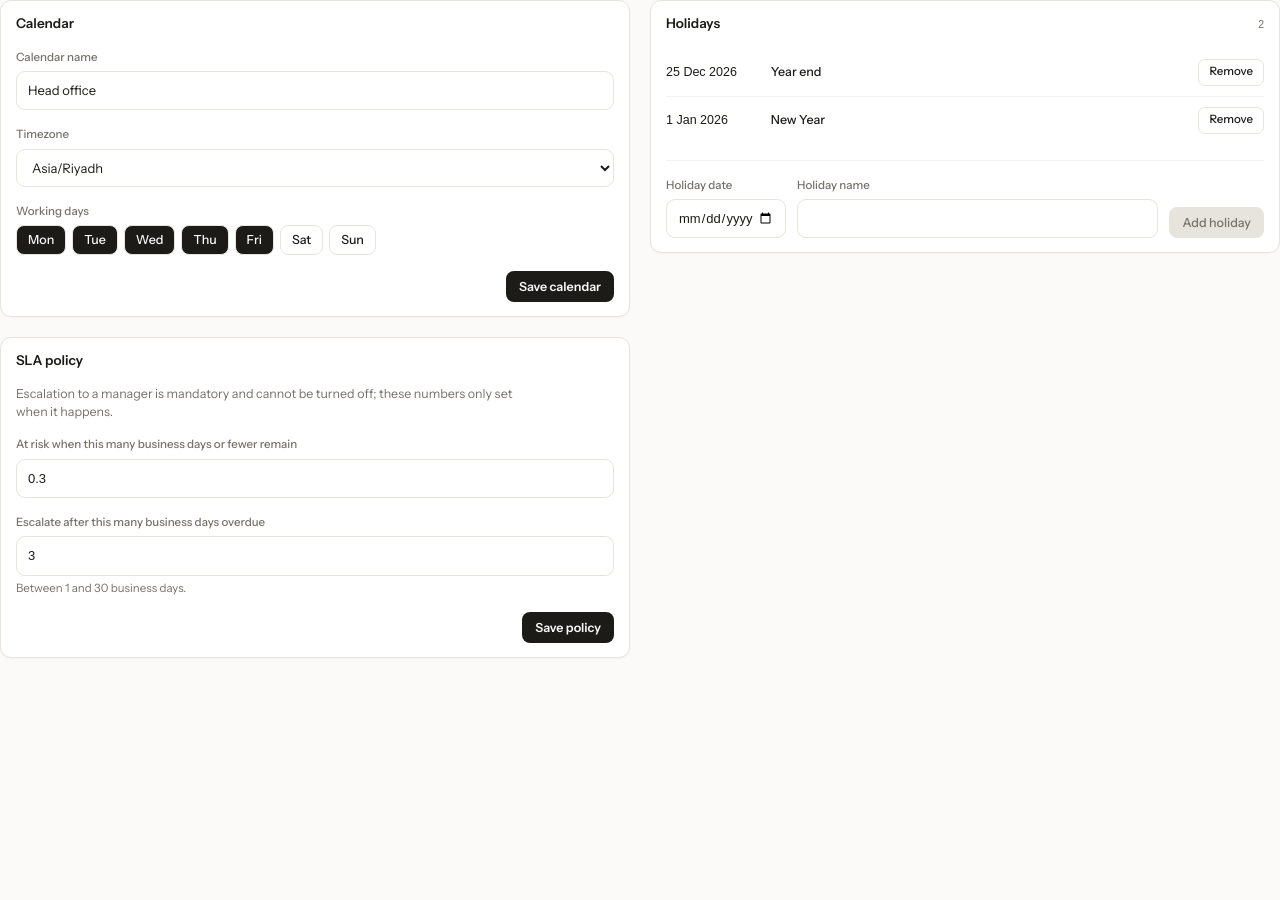
business calendar page › keeps Add holiday disabled until date and name are valid
Expected: the button "Add holiday" is disabled, [1169,207,1264,238]
Type "1999-05-01" into the date field labelled "Holiday date" at (726,219), box [666,199,786,238]
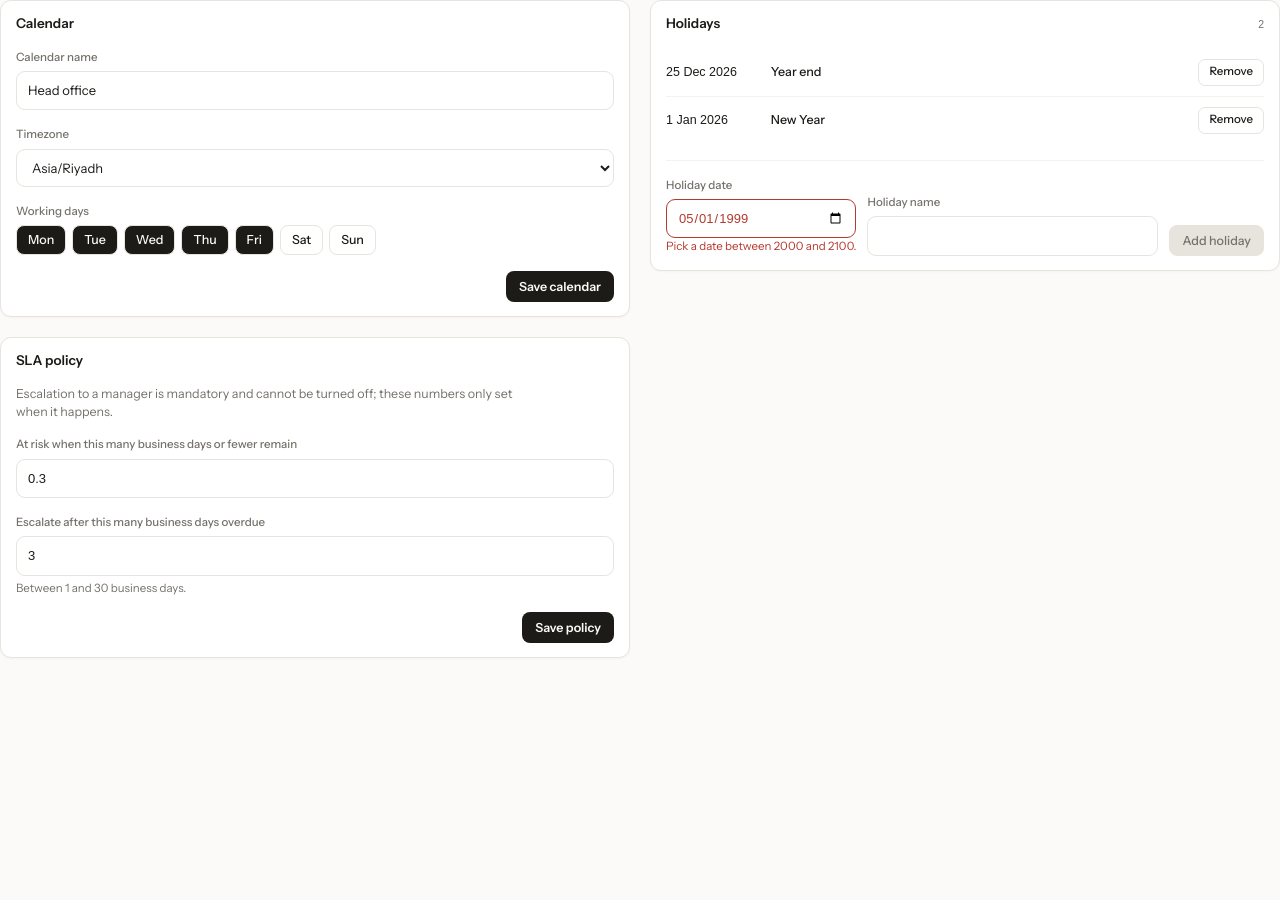
Type "X" into the field labelled "Holiday name" at (1013,236), box [868,216,1158,256]
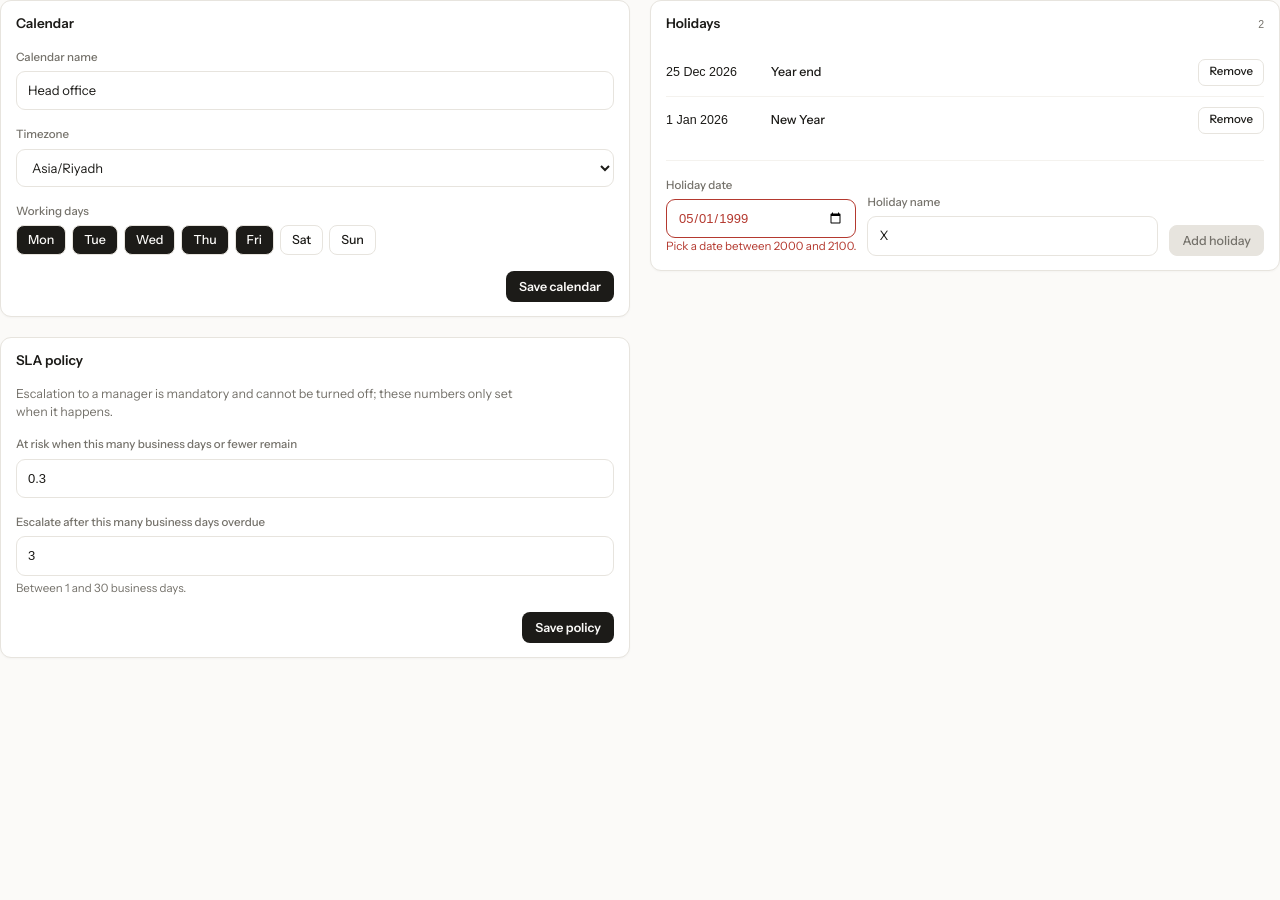
Expected: the button "Add holiday" is disabled, [1169,224,1264,256]
Type "2026-05-01" into the date field labelled "Holiday date" at (761,219), box [666,199,856,238]
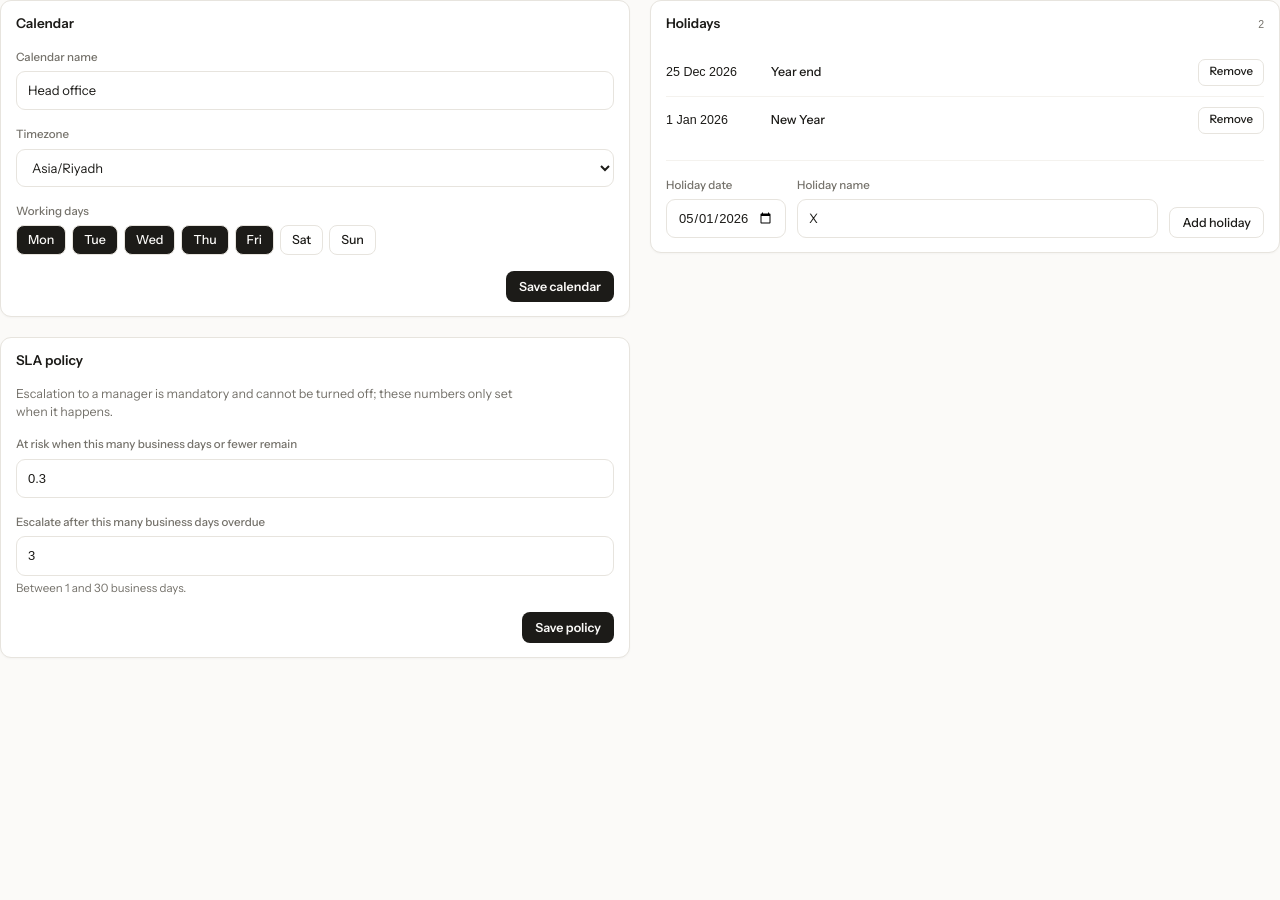
Now the button "Add holiday" is enabled, box [1169,207,1264,238]
